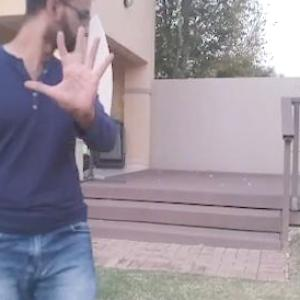follow_hand: (23, 22, 118, 117)
